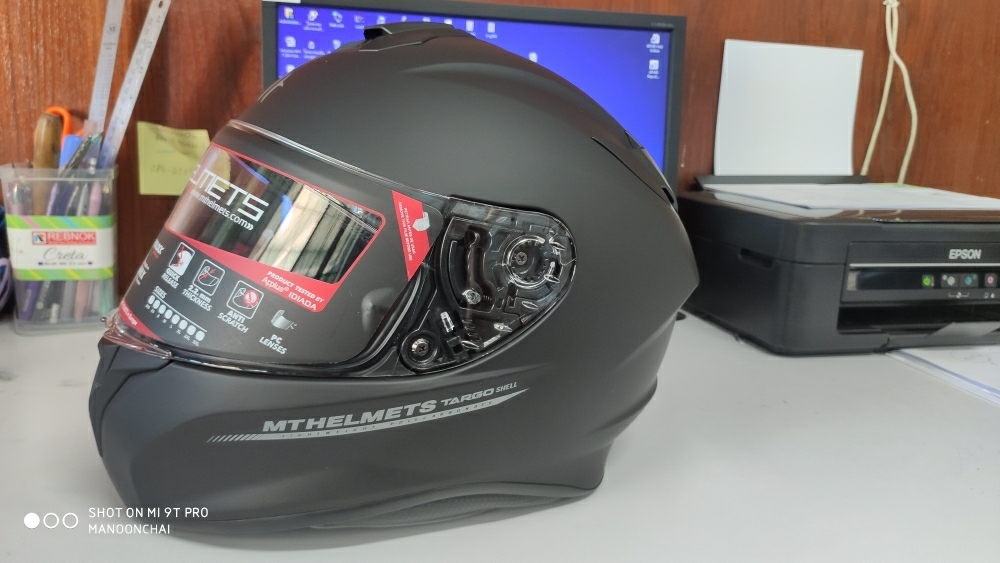helmet: (89, 23, 701, 534)
